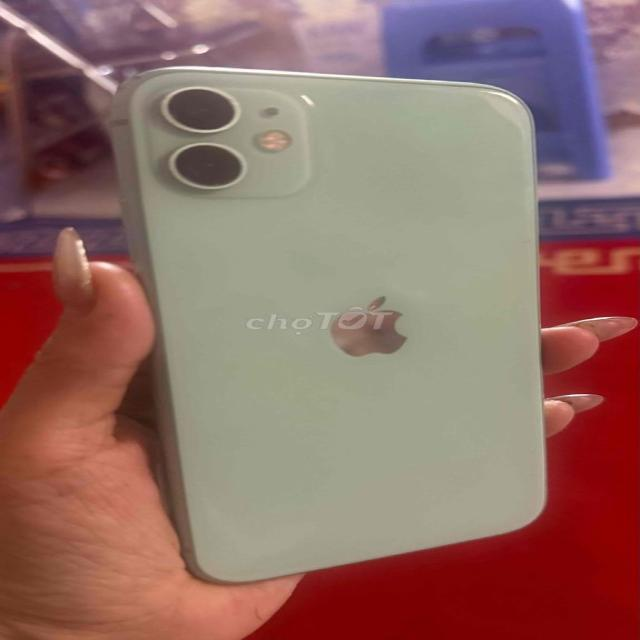gen_11: (124, 56, 560, 596)
